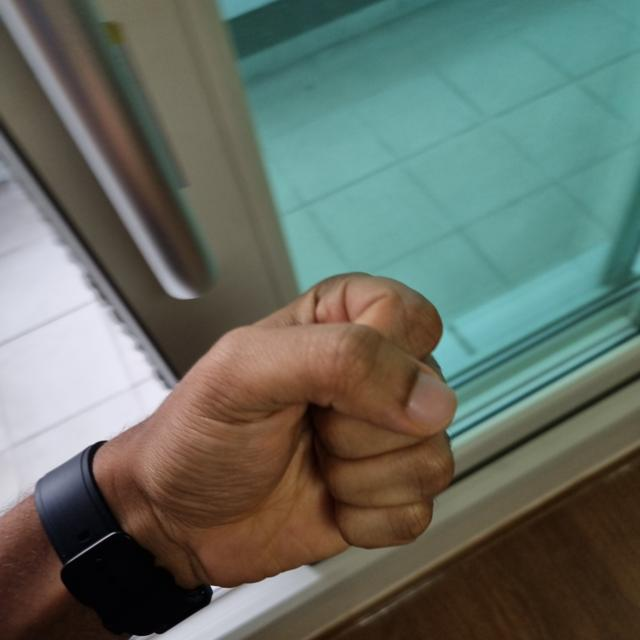Rock: (106, 290, 456, 586)
